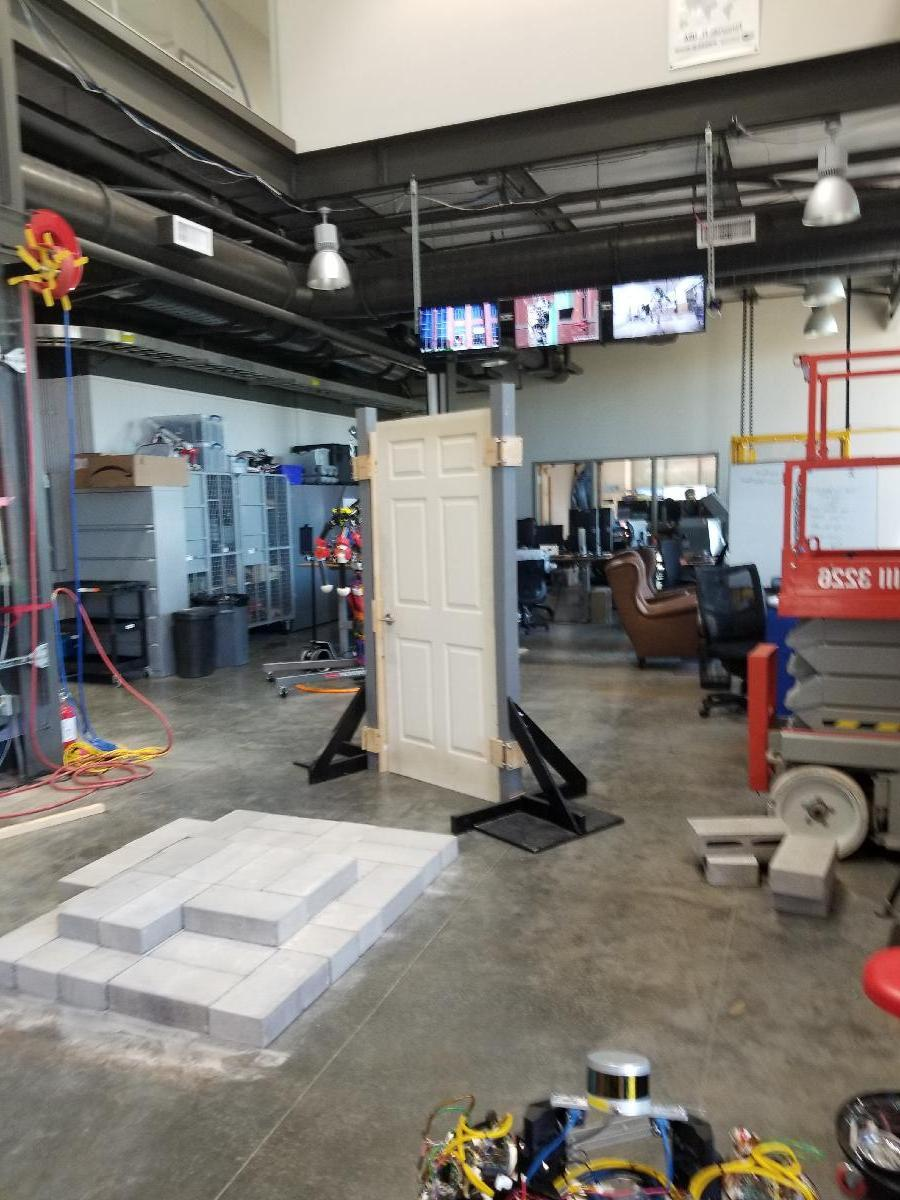door: (375, 407, 500, 805)
